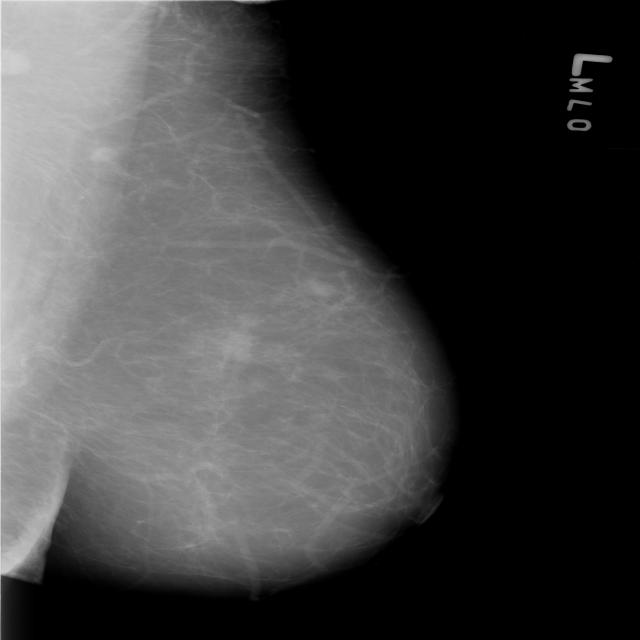normal: (0, 0, 452, 592)
